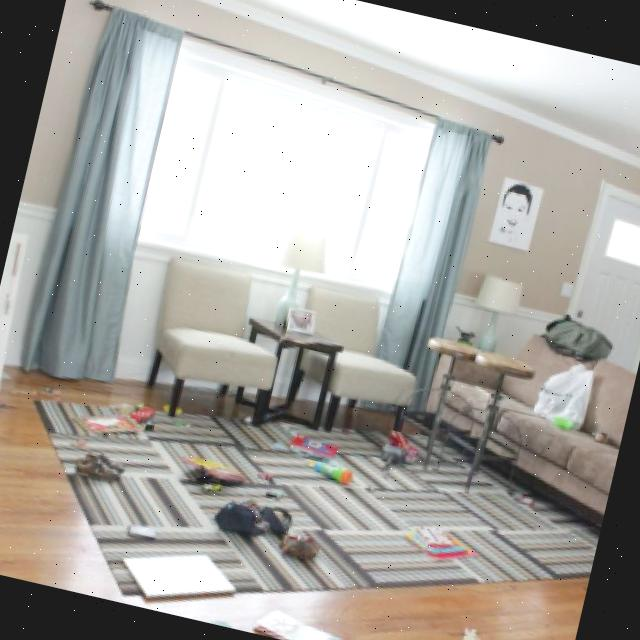chair: (140, 246, 291, 424), (283, 280, 432, 440)
mess: (264, 226, 327, 333)
